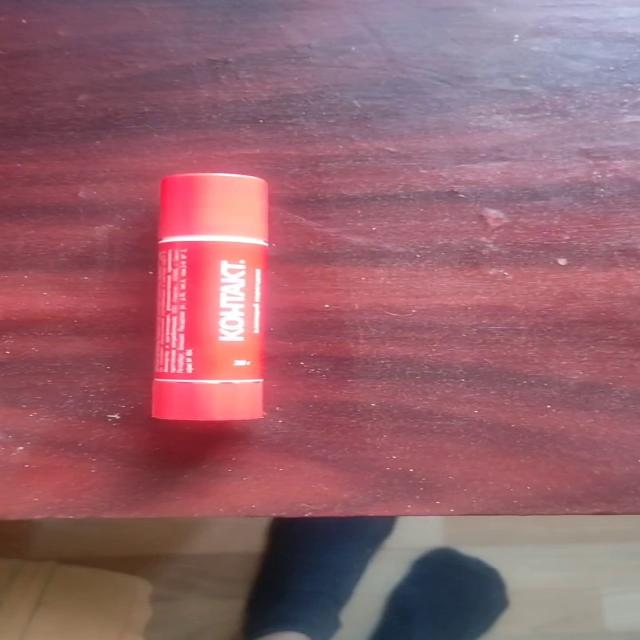glue: (149, 172, 271, 422)
